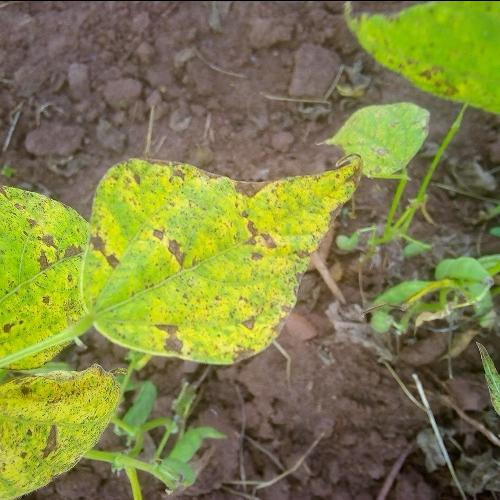hawar: (0, 170, 333, 354), (5, 370, 109, 494)
